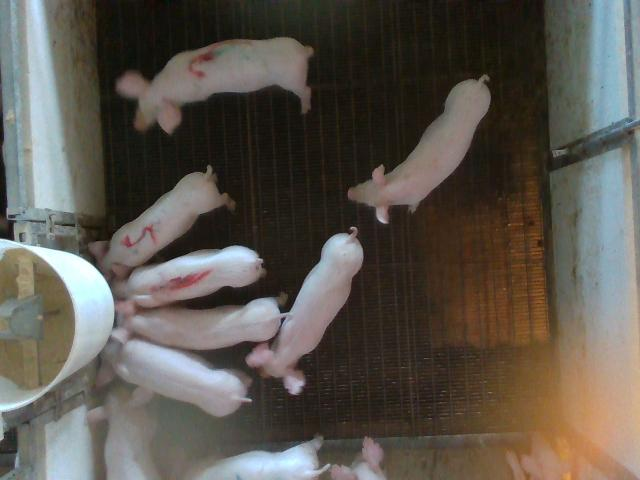pig-1: (112, 245, 265, 308)
pig-3: (116, 38, 312, 133)
pig-5: (89, 166, 235, 273)
